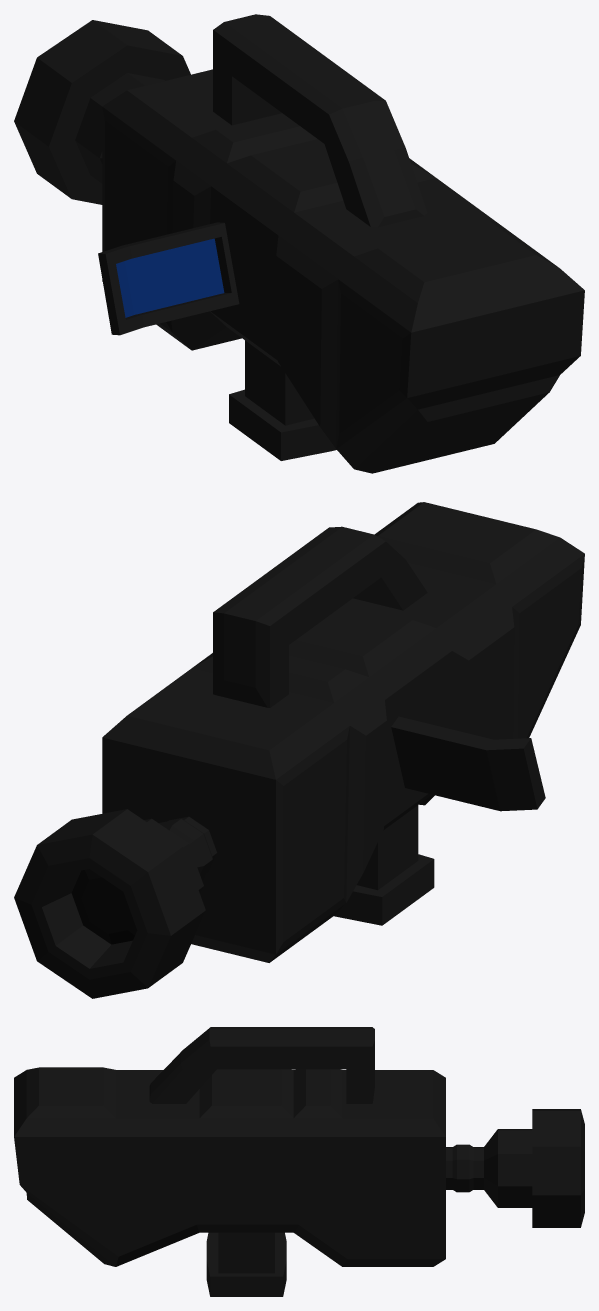
The model's file is CameraV1_Camera.fbx.
3 views of the same model, one above another, from view 1: azimuth 30°, elevation 25°; view 2: azimuth 150°, elevation 25°; view 3: azimuth 270°, elevation 25° (orthographic). The views are drawn at different scales.
Visible parts, largest first — view 1: CameraV1_Camera; view 2: CameraV1_Camera; view 3: CameraV1_Camera.
Part boxes in pixels (box(x1,y1,x2,y2)): CameraV1_Camera: box(14, 14, 584, 473); CameraV1_Camera: box(14, 502, 584, 998); CameraV1_Camera: box(14, 1027, 584, 1296).
Bounding box in the file's own units: 33.96 × 36.59 × 80.18.
